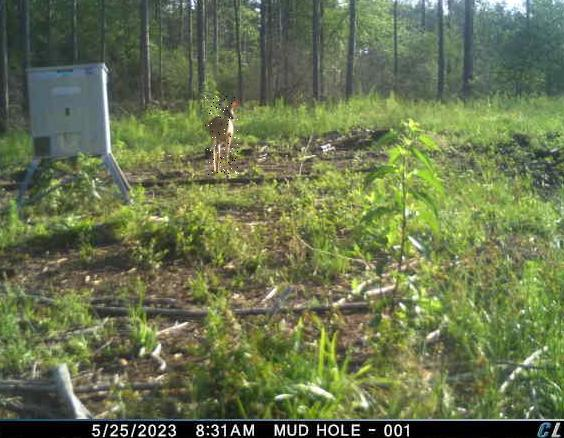Deer: (206, 95, 240, 175)
